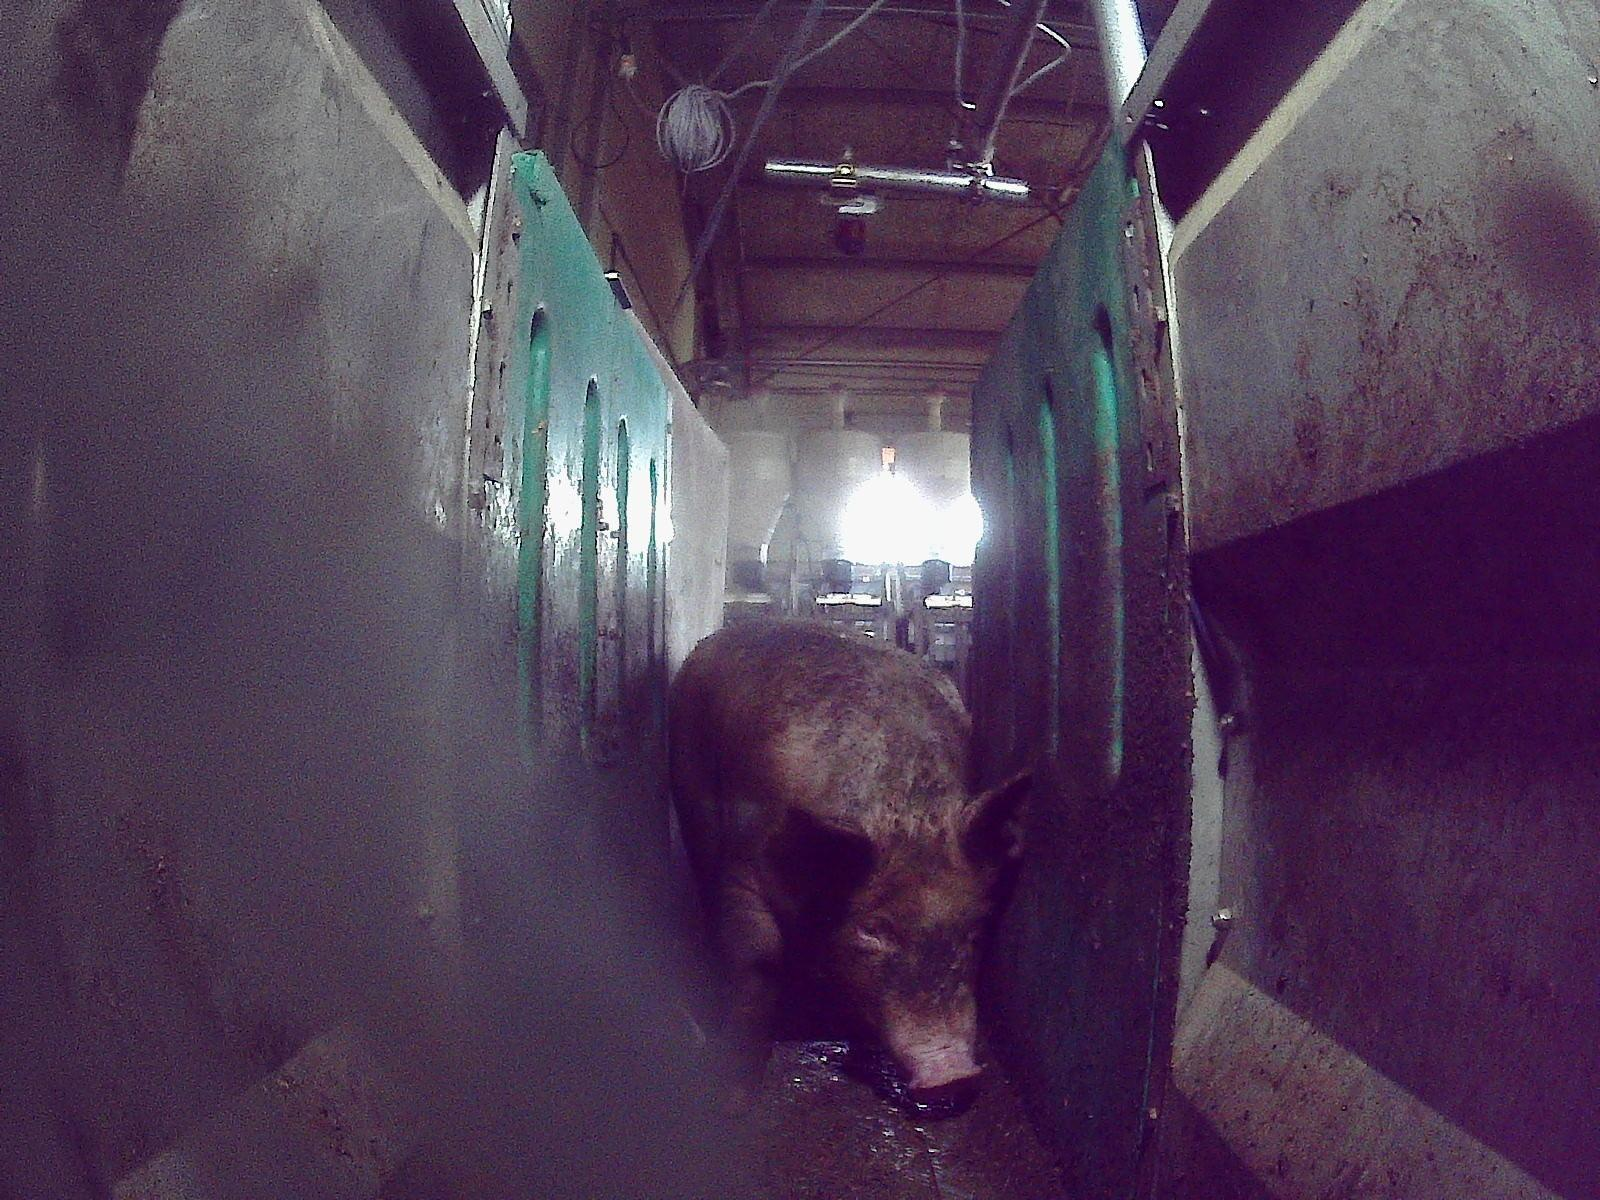Face: (829, 830, 995, 1096)
